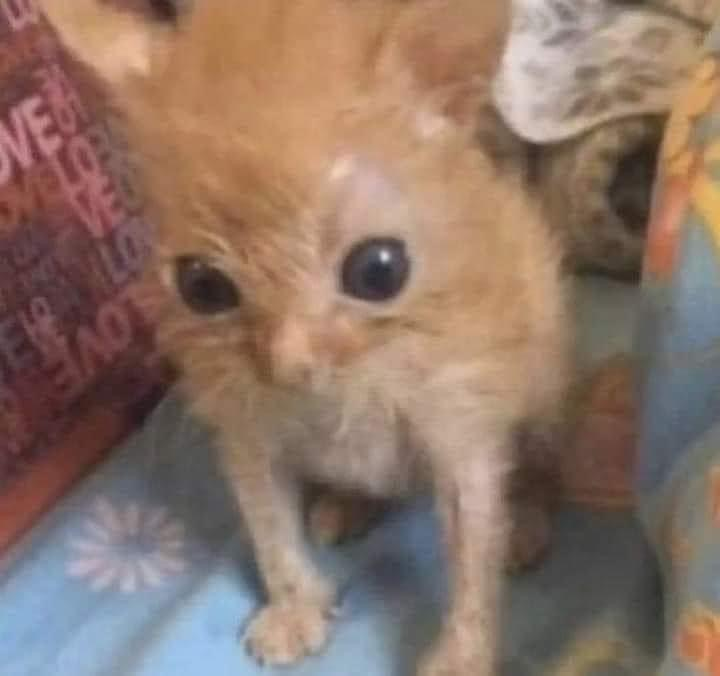cat: (127, 14, 527, 673)
